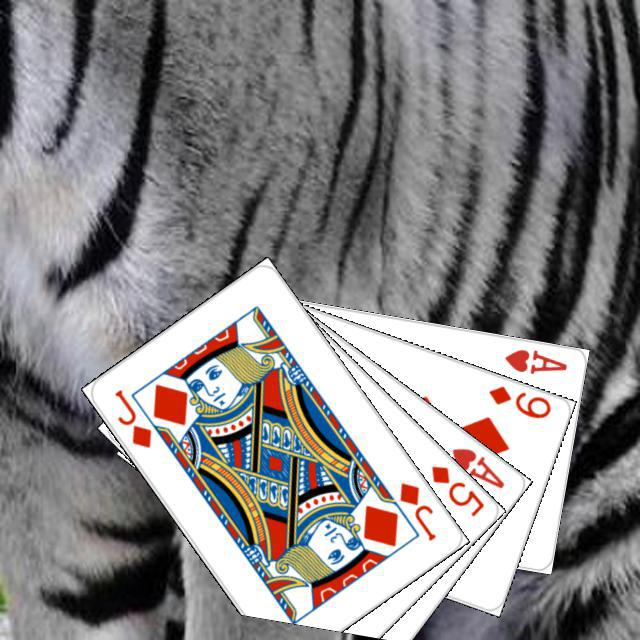5d: (426, 461, 486, 519)
9d: (483, 380, 553, 421)
Ah: (446, 442, 507, 490), (499, 344, 569, 375)
Jd: (109, 384, 154, 450), (394, 477, 438, 543)
